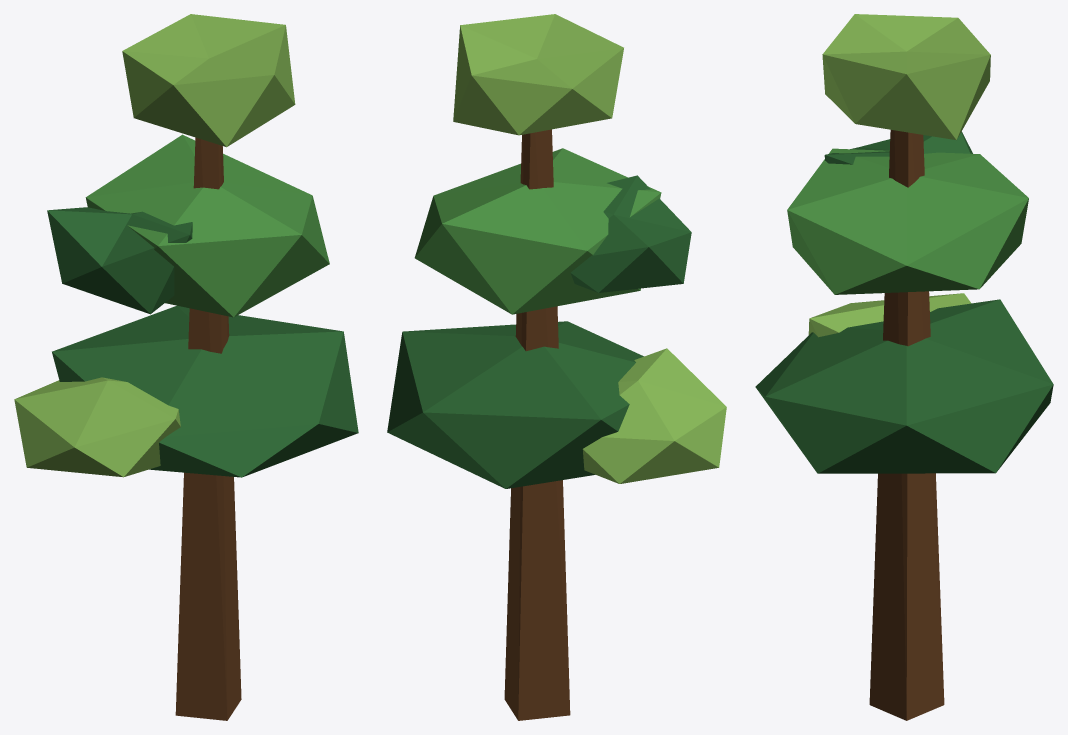
3 renders of one model, left to right at view 1: azimuth 30°, elevation 25°; view 2: azimuth 150°, elevation 25°; view 3: azimuth 270°, elevation 25°, orthographic.
Parts seen in each view (by area): view 1: WK_InnerKeepTree_PrunedOrnamental_ThreeTier_LOD2_Compact; view 2: WK_InnerKeepTree_PrunedOrnamental_ThreeTier_LOD2_Compact; view 3: WK_InnerKeepTree_PrunedOrnamental_ThreeTier_LOD2_Compact.
Part boxes in pixels (box(x1,y1,x2,y2)): WK_InnerKeepTree_PrunedOrnamental_ThreeTier_LOD2_Compact: box(14, 14, 358, 720); WK_InnerKeepTree_PrunedOrnamental_ThreeTier_LOD2_Compact: box(387, 14, 726, 720); WK_InnerKeepTree_PrunedOrnamental_ThreeTier_LOD2_Compact: box(755, 14, 1053, 720).
Bounding box in the file's own units: 2.35 × 4.7 × 1.9.
